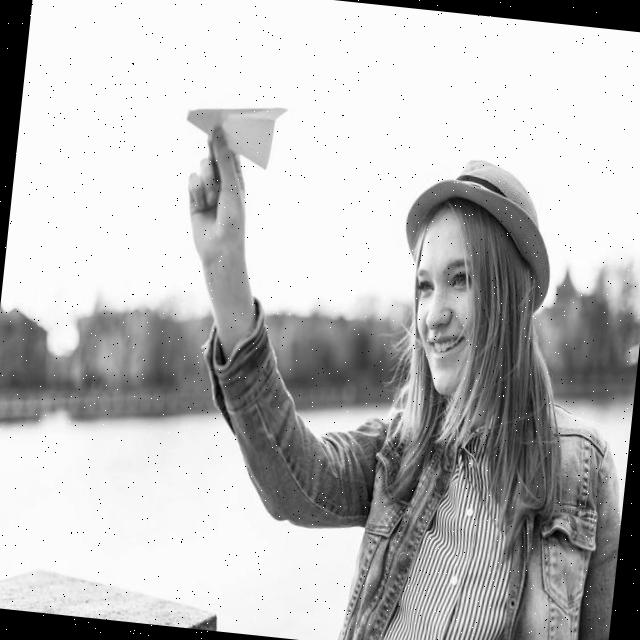Happiness: (396, 208, 492, 403)
